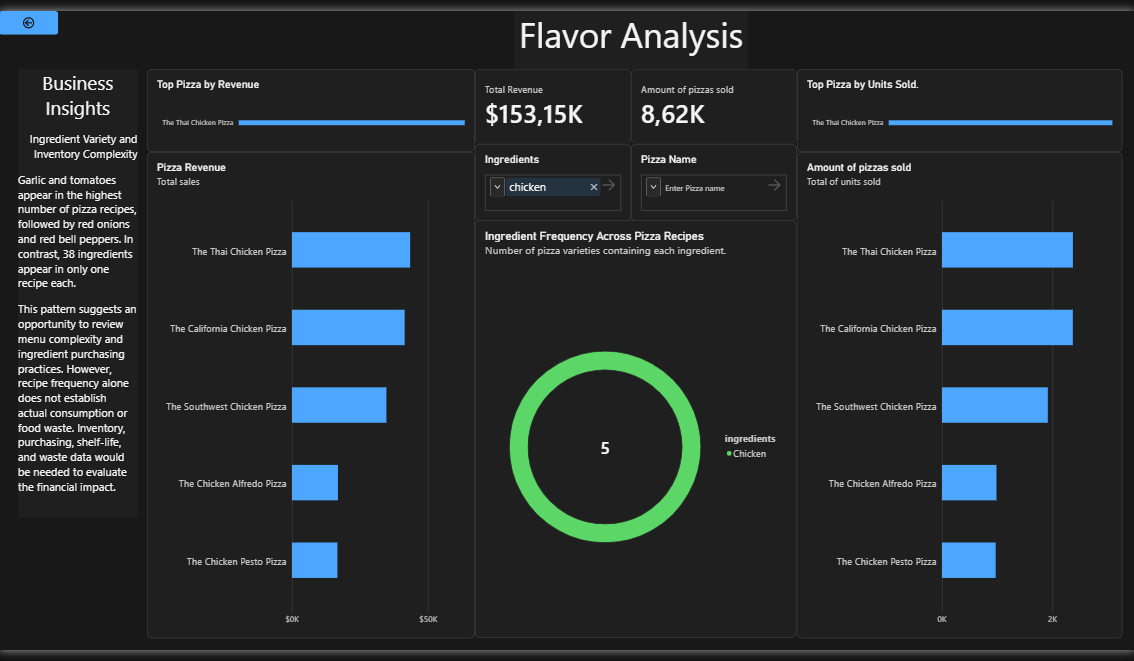

This screenshot's page, from the dashboard's own definition file:
{"tool":"powerbi","page":{"name":"Flavor_Analysis","canvas":[1920,1080],"ordinal":1},"visuals":[{"type":"clusteredBarChart","title":"Pizza Revenue","fields":{"Category":["Pizza_Revenue_By_Flavor.name"],"Y":["order_details.Total Sales"]},"box":[250,238,554,822],"z":0},{"type":"textbox","box":[870,0,396,98],"z":1000},{"type":"hundredPercentStackedBarChart","title":"Top Pizza by Revenue","fields":{"Category":["Pizza_Revenue_By_Flavor.name"],"Y":["order_details.Total Sales"]},"box":[250,98,554,140],"z":2000},{"type":"hundredPercentStackedBarChart","title":"Top Pizza by Units Sold.","fields":{"Category":["Pizza_Revenue_By_Flavor.name"],"Y":["Sum(Pizza_Revenue_By_Flavor.total_revenue)"]},"box":[1348,98,550,140],"z":3000},{"type":"donutChart","title":"Ingredient Frequency Across Pizza Recipes","fields":{"Category":["Pizza_Ingredients_Split.ingredients"],"Y":["CountNonNull(Pizza_Ingredients_Split.ingredients)"]},"box":[803.8,353.8,542.5,706.2],"z":4000},{"type":"clusteredBarChart","title":"Amount of pizzas sold","fields":{"Category":["Pizza_Revenue_By_Flavor.name"],"Y":["Sum(Pizza_Revenue_By_Flavor.total_quantity)"]},"box":[1348,238,550,822],"z":5000},{"type":"textSlicer","title":"Pizza Name","fields":{"Values":["Pizza_Revenue_By_Flavor.name"]},"box":[1068,224,280,130],"z":6000},{"type":"actionButton","box":[0,0,100,40],"z":7000},{"type":"cardVisual","fields":{"Data":["Sum(Pizza_Revenue_By_Flavor.total_revenue)"]},"box":[804,98,264,126],"z":8000},{"type":"cardVisual","fields":{"Data":["Sum(Pizza_Revenue_By_Flavor.total_quantity)"]},"box":[1068,98,280,126],"z":9000},{"type":"textbox","box":[32,98,202,758],"z":10000},{"type":"textSlicer","fields":{"Values":["Pizza_Ingredients_Split.ingredients"]},"box":[804,224,264,130],"z":10001}]}

Visuals, with their boxes on the page's 1920x1080 design canvas (x1, y1, x2, y2). These are canvas units, not pixel positions in the 1134x661 screenshot, which may show the page scaled, cropped or inside an application window:
"Pizza Revenue" clusteredBarChart: bbox(250, 238, 804, 1060)
textbox: bbox(870, 0, 1266, 98)
"Top Pizza by Revenue" hundredPercentStackedBarChart: bbox(250, 98, 804, 238)
"Top Pizza by Units Sold." hundredPercentStackedBarChart: bbox(1348, 98, 1898, 238)
"Ingredient Frequency Across Pizza Recipes" donutChart: bbox(804, 354, 1346, 1060)
"Amount of pizzas sold" clusteredBarChart: bbox(1348, 238, 1898, 1060)
"Pizza Name" textSlicer: bbox(1068, 224, 1348, 354)
actionButton: bbox(0, 0, 100, 40)
cardVisual - Sum(Pizza_Revenue_By_Flavor.total_revenue): bbox(804, 98, 1068, 224)
cardVisual - Sum(Pizza_Revenue_By_Flavor.total_quantity): bbox(1068, 98, 1348, 224)
textbox: bbox(32, 98, 234, 856)
textSlicer - Pizza_Ingredients_Split.ingredients: bbox(804, 224, 1068, 354)
